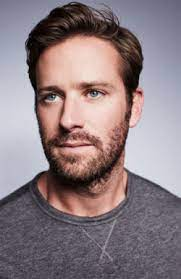person: (25, 3, 144, 185)
